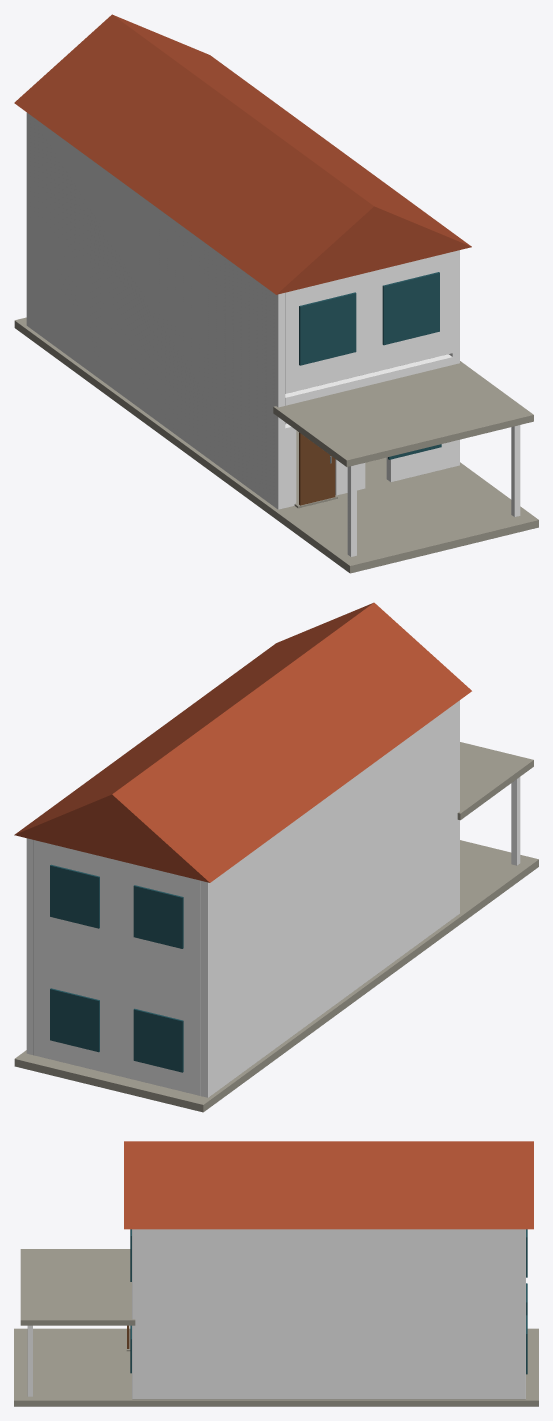
File: terrace-house.glb
3 views of the same model, one above another, from view 1: azimuth 30°, elevation 25°; view 2: azimuth 150°, elevation 25°; view 3: azimuth 270°, elevation 25° (orthographic). The views are drawn at different scales.
Visible parts, largest first — view 1: Pitched_Roof, Party_Wall, Ground_Slab, Porch_Roof, Upper_Front, Upper_Window, Upper_Window.001, Front_Lintel, Entry_Door, Front_Pier.002, Front_Pier, Party_Wall.001 (+2 smaller); view 2: Pitched_Roof, Party_Wall, Rear_Wall, Ground_Slab, Porch_Roof, Rear_Window, Rear_Window.001, Rear_Window.003, Rear_Window.002, Party_Wall.001, Porch_Column; view 3: Party_Wall.001, Pitched_Roof, Ground_Slab, Porch_Roof, Porch_Column.001.
Boxes of the visible parts, bbox=[...] form: Pitched_Roof: bbox=[14, 14, 471, 294]; Party_Wall: bbox=[26, 112, 285, 509]; Ground_Slab: bbox=[14, 317, 538, 573]; Porch_Roof: bbox=[273, 361, 533, 466]; Upper_Front: bbox=[285, 252, 452, 393]; Upper_Window: bbox=[299, 292, 356, 365]; Upper_Window.001: bbox=[382, 272, 439, 345]; Front_Lintel: bbox=[285, 354, 452, 424]; Entry_Door: bbox=[299, 432, 335, 505]; Front_Pier.002: bbox=[386, 440, 456, 482]; Front_Pier: bbox=[282, 424, 296, 508]; Party_Wall.001: bbox=[449, 250, 459, 466]; Pitched_Roof: bbox=[14, 602, 471, 882]; Party_Wall: bbox=[201, 700, 459, 1097]; Rear_Wall: bbox=[33, 840, 200, 1095]; Ground_Slab: bbox=[14, 840, 538, 1112]; Porch_Roof: bbox=[457, 742, 533, 820]; Rear_Window: bbox=[133, 1008, 183, 1072]; Rear_Window.001: bbox=[133, 885, 183, 948]; Rear_Window.003: bbox=[50, 864, 99, 928]; Rear_Window.002: bbox=[50, 988, 99, 1052]; Party_Wall.001: bbox=[26, 838, 33, 1055]; Porch_Column: bbox=[511, 777, 520, 865]; Party_Wall.001: bbox=[132, 1229, 525, 1399]; Pitched_Roof: bbox=[124, 1141, 533, 1229]; Ground_Slab: bbox=[14, 1328, 538, 1406]; Porch_Roof: bbox=[20, 1249, 135, 1325]; Porch_Column.001: bbox=[27, 1325, 32, 1396].
Bounding box in the file's own units: 5.4 × 7.7 × 16.
